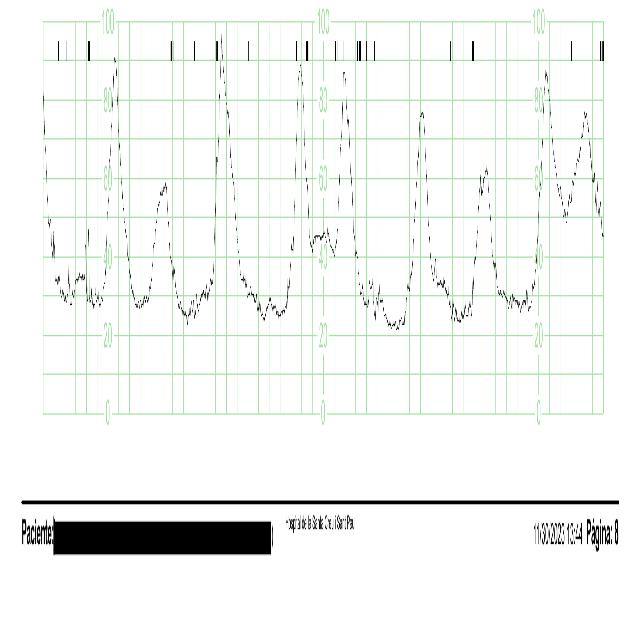contraction: (203, 37, 236, 307), (400, 126, 432, 324), (533, 71, 558, 305), (102, 56, 125, 291), (288, 68, 308, 301), (472, 170, 498, 314), (333, 73, 353, 260), (570, 106, 597, 218), (150, 187, 173, 305)
